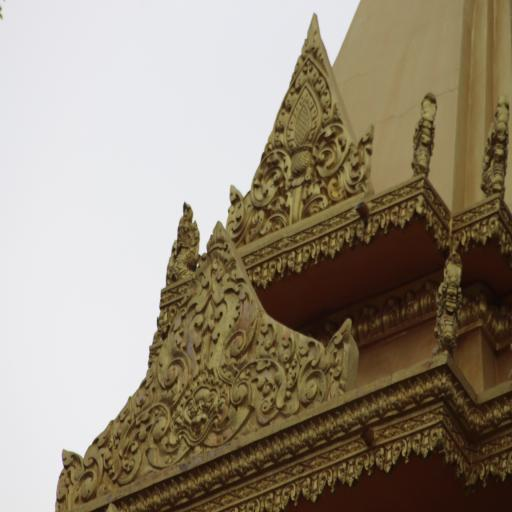la: (154, 276, 255, 460), (234, 72, 346, 236), (252, 310, 344, 415), (68, 386, 152, 493), (374, 441, 407, 474), (301, 469, 333, 503), (336, 452, 366, 488), (410, 431, 444, 461), (270, 481, 292, 512)
ran: (434, 269, 465, 352), (168, 203, 200, 278), (485, 104, 508, 197), (412, 95, 440, 169)
